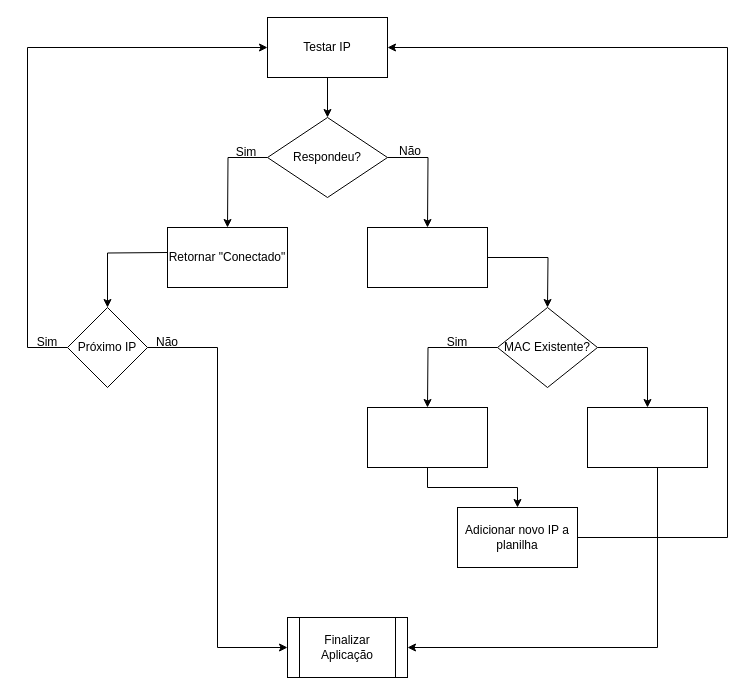
Some shapes in this 753 by 695 pixel diagram are drawn without their labels. Here are the shapes that lost their labels. From the top down, the centre of each, then its label:
point 427,257: Buscar MAC na planilha
point 427,437: Executar "arp -a" para descobrir novo IP
point 647,437: "Inserir o novo MAC"
